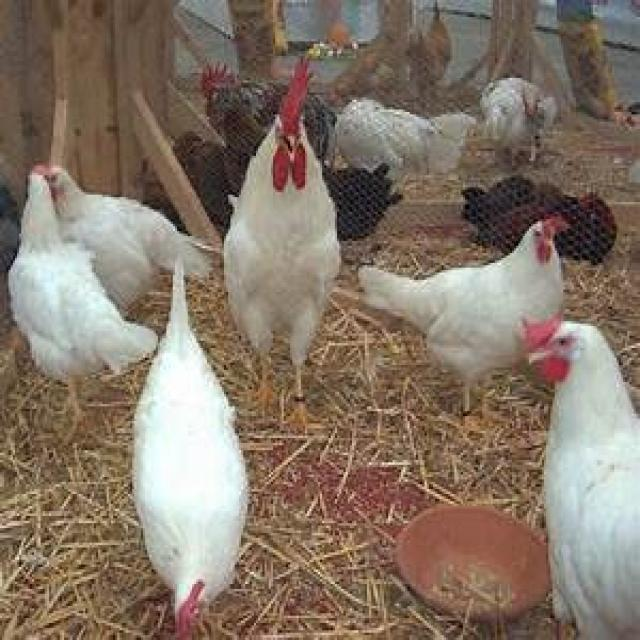hen: (130, 241, 250, 640), (222, 56, 341, 375)
